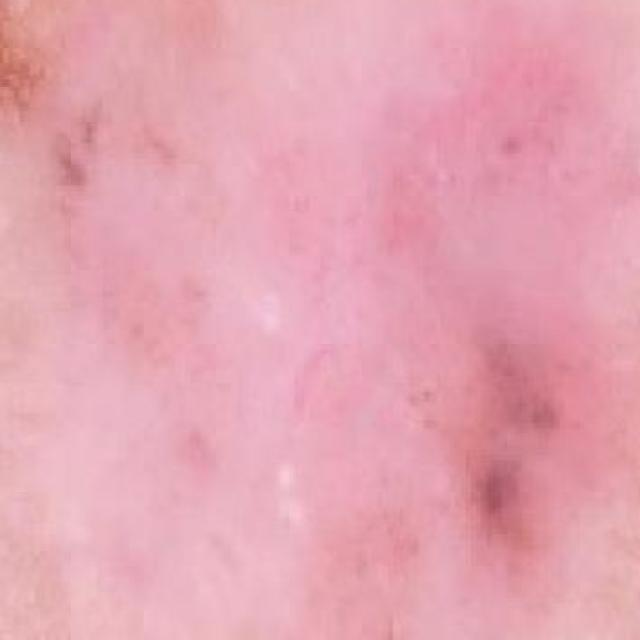BCC: (302, 13, 640, 640)
